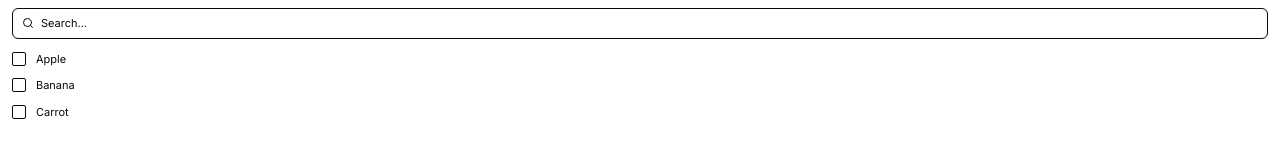
Test case: ComboboxFilter › typing filters case-insensitively
Type "ban" into the field with placeholder "Search..." at (640, 23), box [12, 8, 1268, 38]
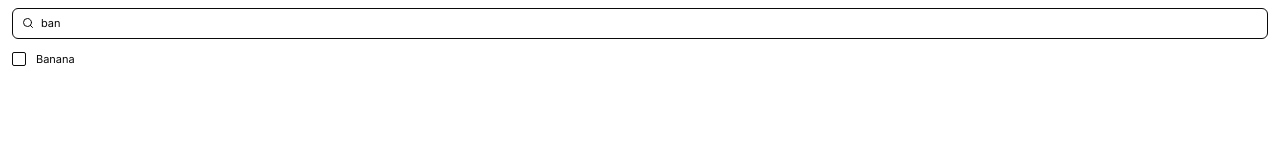
Expected: the button reads "Banana", [12, 46, 1268, 71]
Expected: the number of buttons is 1, [12, 46, 1268, 71]
